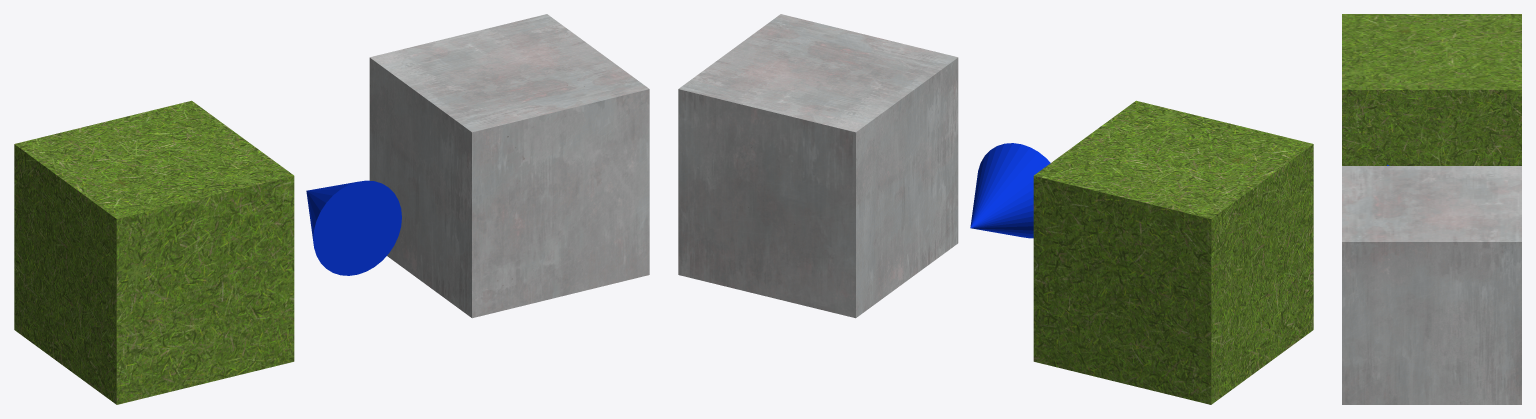
Rendered from multi_textured_scene.glb.
3 views of the same model, side by side, from view 1: azimuth 30°, elevation 25°; view 2: azimuth 150°, elevation 25°; view 3: azimuth 270°, elevation 25° (orthographic). The views are drawn at different scales.
Parts seen in each view (by area): view 1: Cube, Cube.001, Cone; view 2: Cube, Cube.001, Cone; view 3: Cube.001, Cube.
Part boxes in pixels (x1=…): Cube: x1=14, y1=100, x2=294, y2=404; Cube.001: x1=369, y1=14, x2=649, y2=318; Cone: x1=306, y1=180, x2=401, y2=275; Cube: x1=1033, y1=100, x2=1313, y2=404; Cube.001: x1=678, y1=14, x2=958, y2=318; Cone: x1=970, y1=143, x2=1050, y2=238; Cube.001: x1=1342, y1=166, x2=1521, y2=404; Cube: x1=1342, y1=14, x2=1521, y2=165.
Size of the model in its own units: 6 by 2 by 2.
3 materials, 2 textured.
